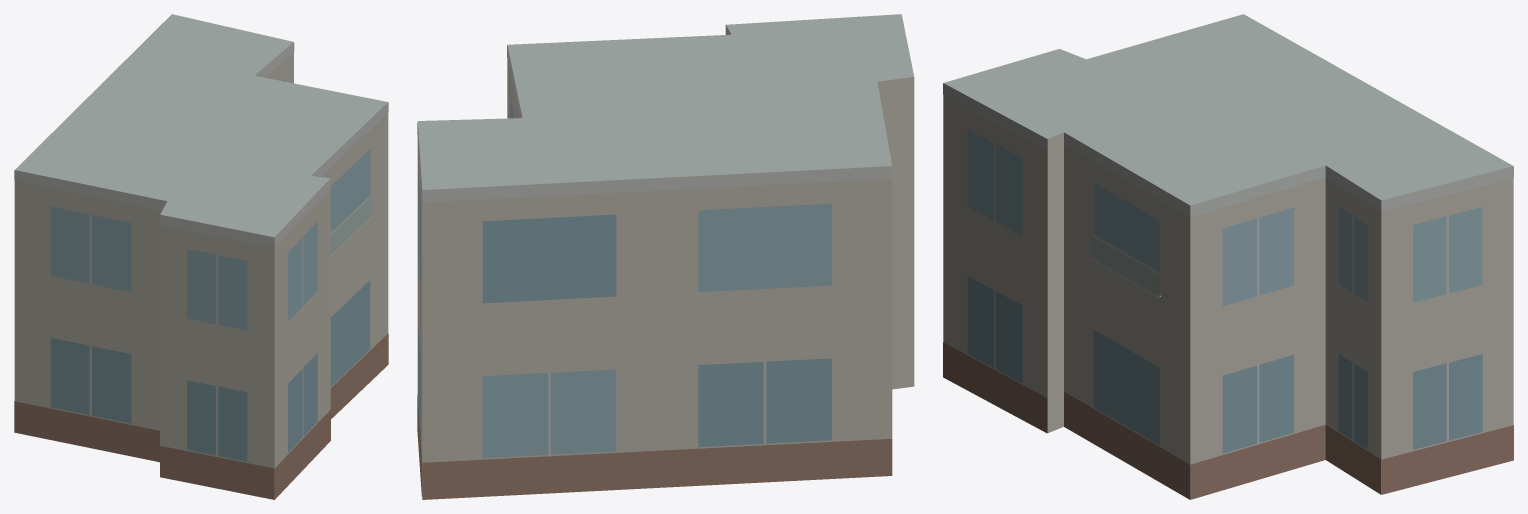
File: survey-upis-32728822.glb
The picture shows the model from 3 angles, left to right: view 1: azimuth 30°, elevation 25°; view 2: azimuth 150°, elevation 25°; view 3: azimuth 270°, elevation 25°; orthographic projection. The views are drawn at different scales.
Parts seen in each view (by area): view 1: survey-upis-32728822.tmp; view 2: survey-upis-32728822.tmp; view 3: survey-upis-32728822.tmp.
Part boxes in pixels (x1,y1,x2,y2): survey-upis-32728822.tmp: (14, 14, 388, 499); survey-upis-32728822.tmp: (417, 14, 914, 499); survey-upis-32728822.tmp: (943, 14, 1513, 499).
Bounding box in the file's own units: 8.52 × 6.1 × 10.73.
